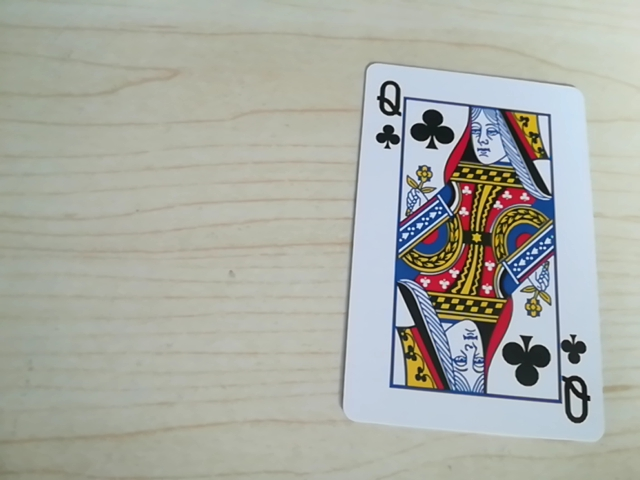mh q: (369, 70, 414, 148), (558, 347, 595, 430)
